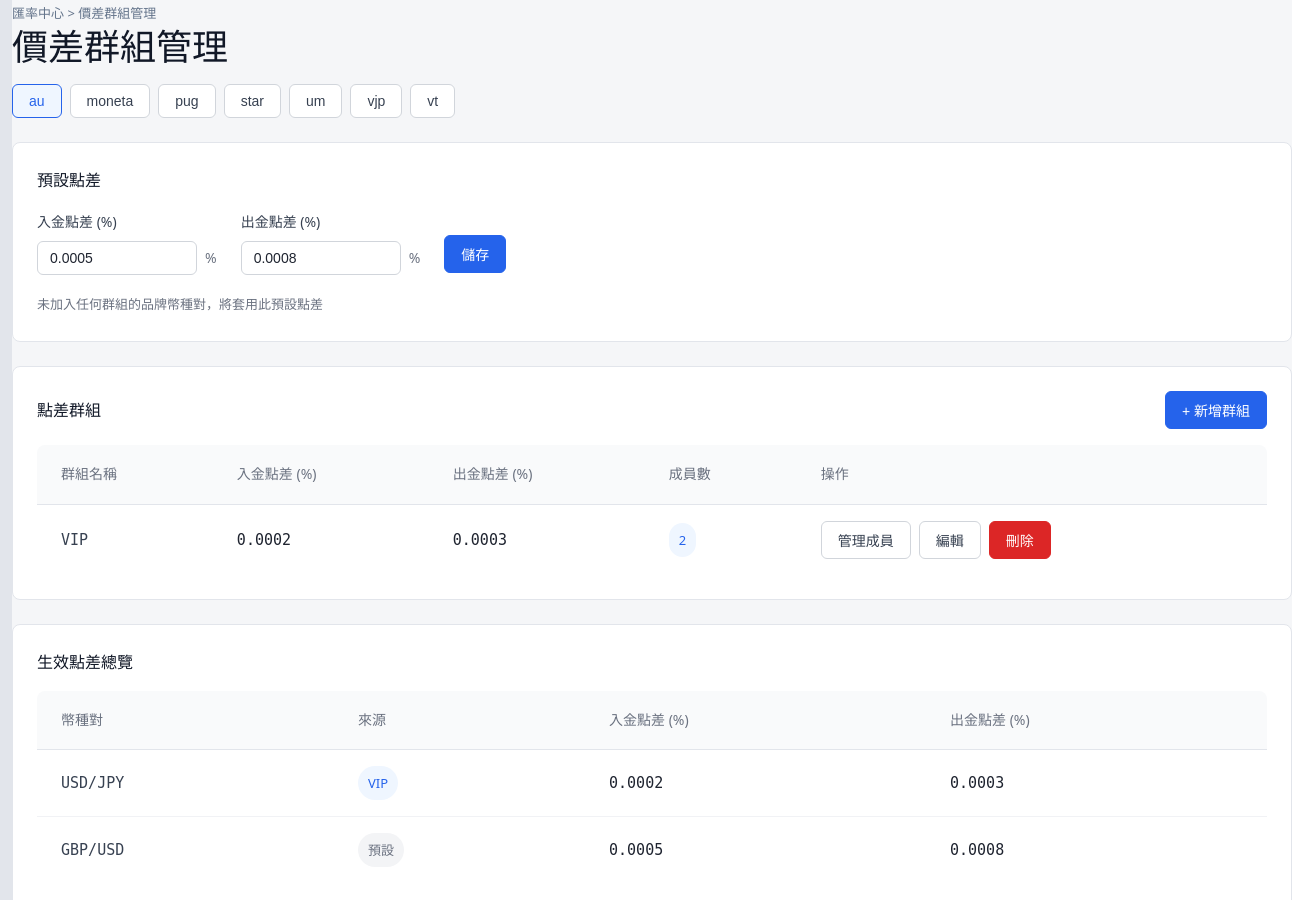
Scenario: SpreadGroupManagementPage › saves 預設點差 via PUT: on 202 reverts the inputs, shows the 審核中 badge and submission toast
Expected: the heading "價差群組管理" is shown, [12, 22, 228, 71]
Replace the text in the number field labelled "入金點差 (%)" with "0.001" at (117, 258), box [37, 241, 197, 275]
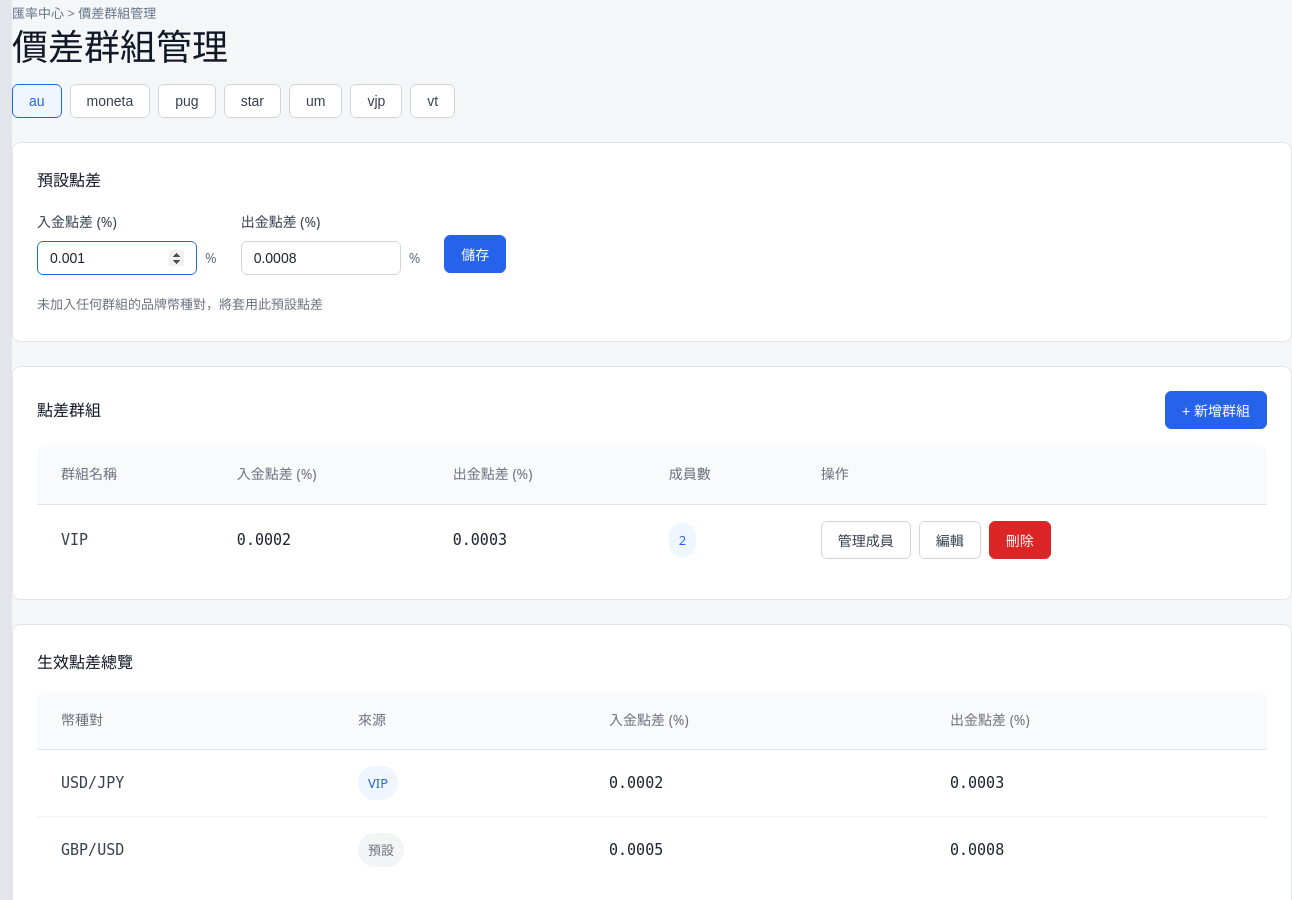
Replace the text in the number field labelled "出金點差 (%)" with "0.002" at (321, 258), box [241, 241, 401, 275]
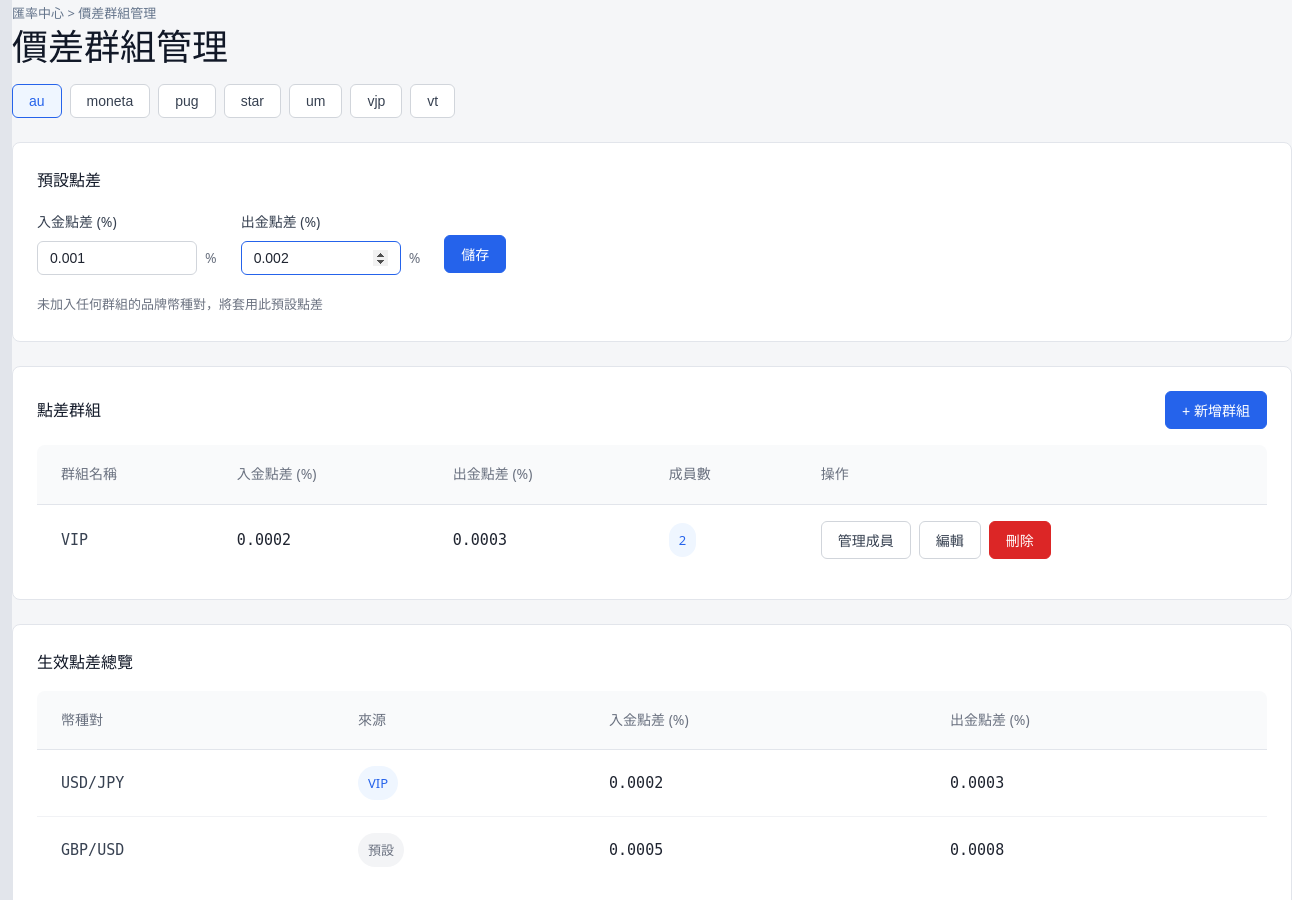
Click the button "儲存" at (475, 254), box [444, 235, 506, 273]
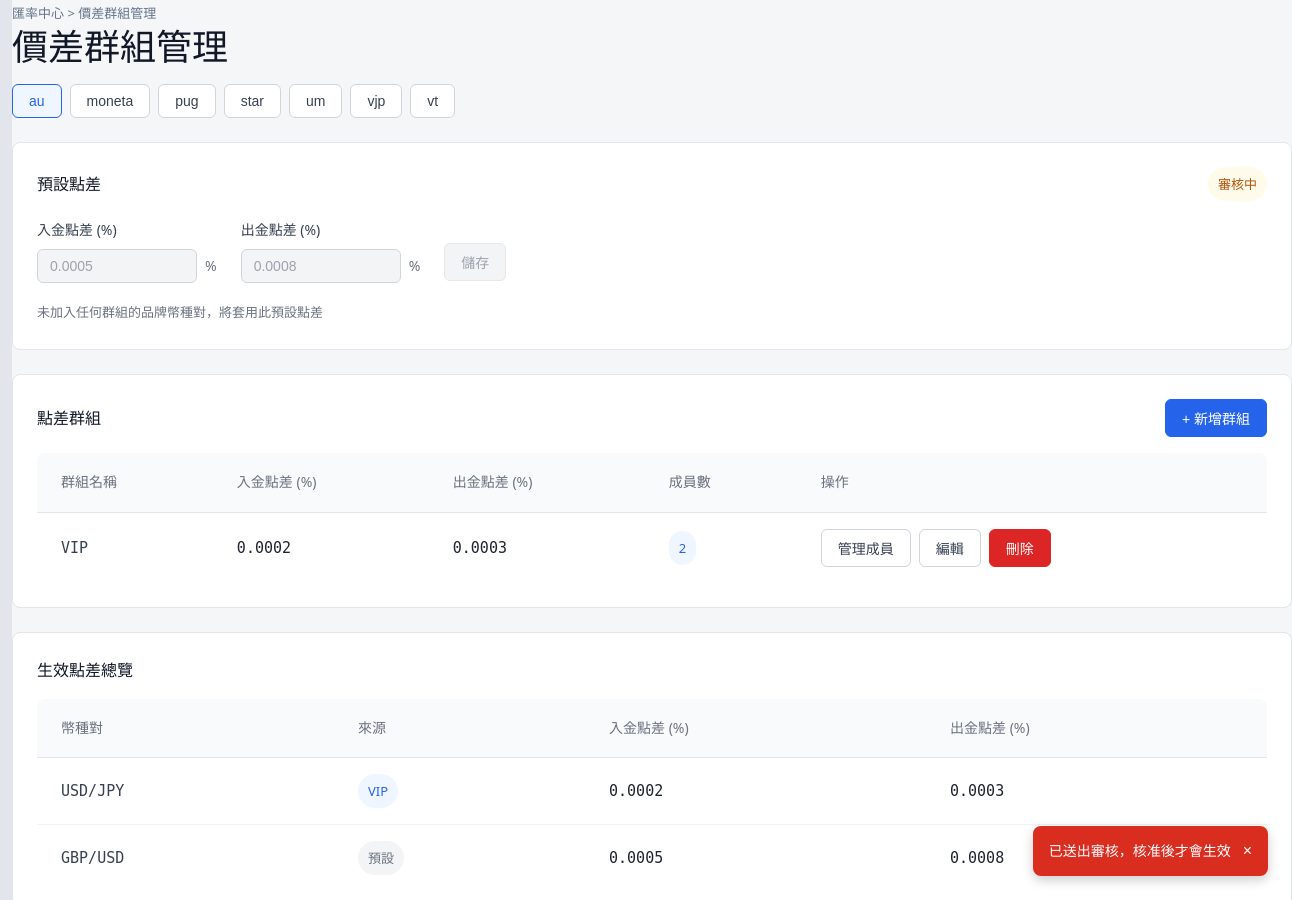
Expected: the text "已送出審核，核准後才會生效" is shown, [1049, 838, 1231, 864]
Expected: the number field labelled "入金點差 (%)" holds "0.0005", [37, 249, 197, 283]
Expected: the number field labelled "出金點差 (%)" holds "0.0008", [241, 249, 401, 283]
